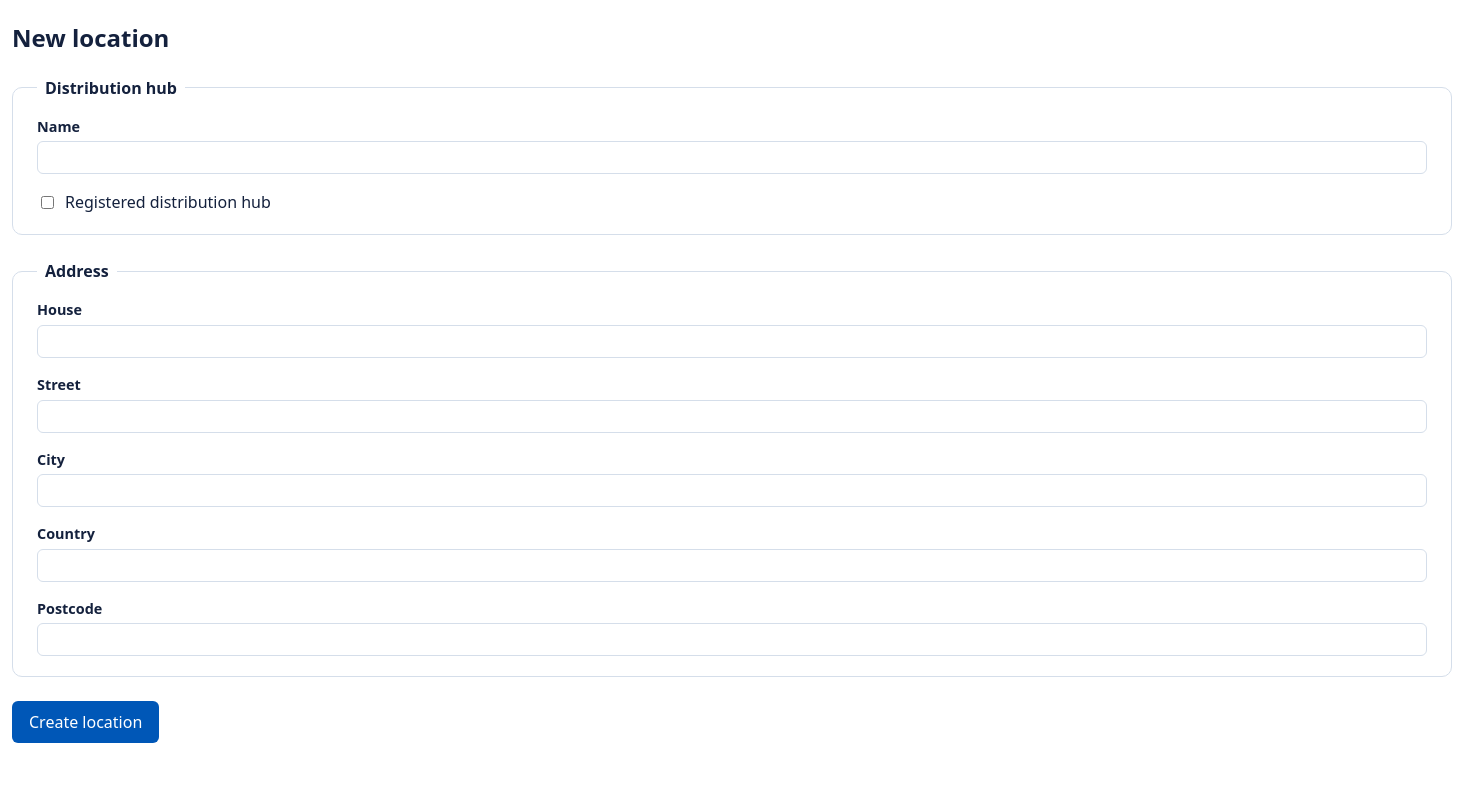
an Administrator registers a location as a hub
Type "Przemysl Hub" into the field labelled "Name".
click(732, 158); type("Przemysl Hub")  # box [37,141,1427,174]
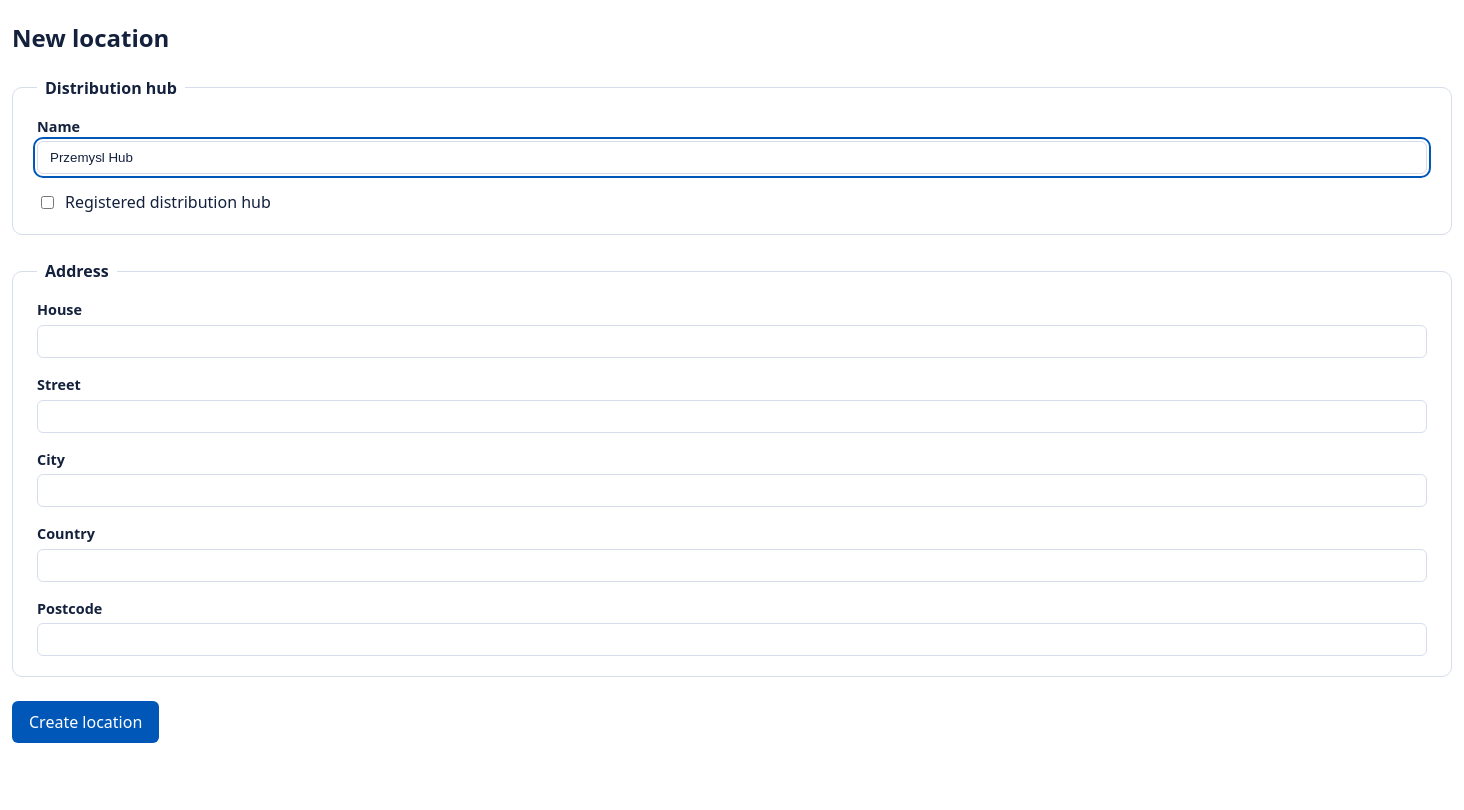
Click the checkbox labelled "Registered distribution hub".
click(48, 202)  # box [41,196,54,209]
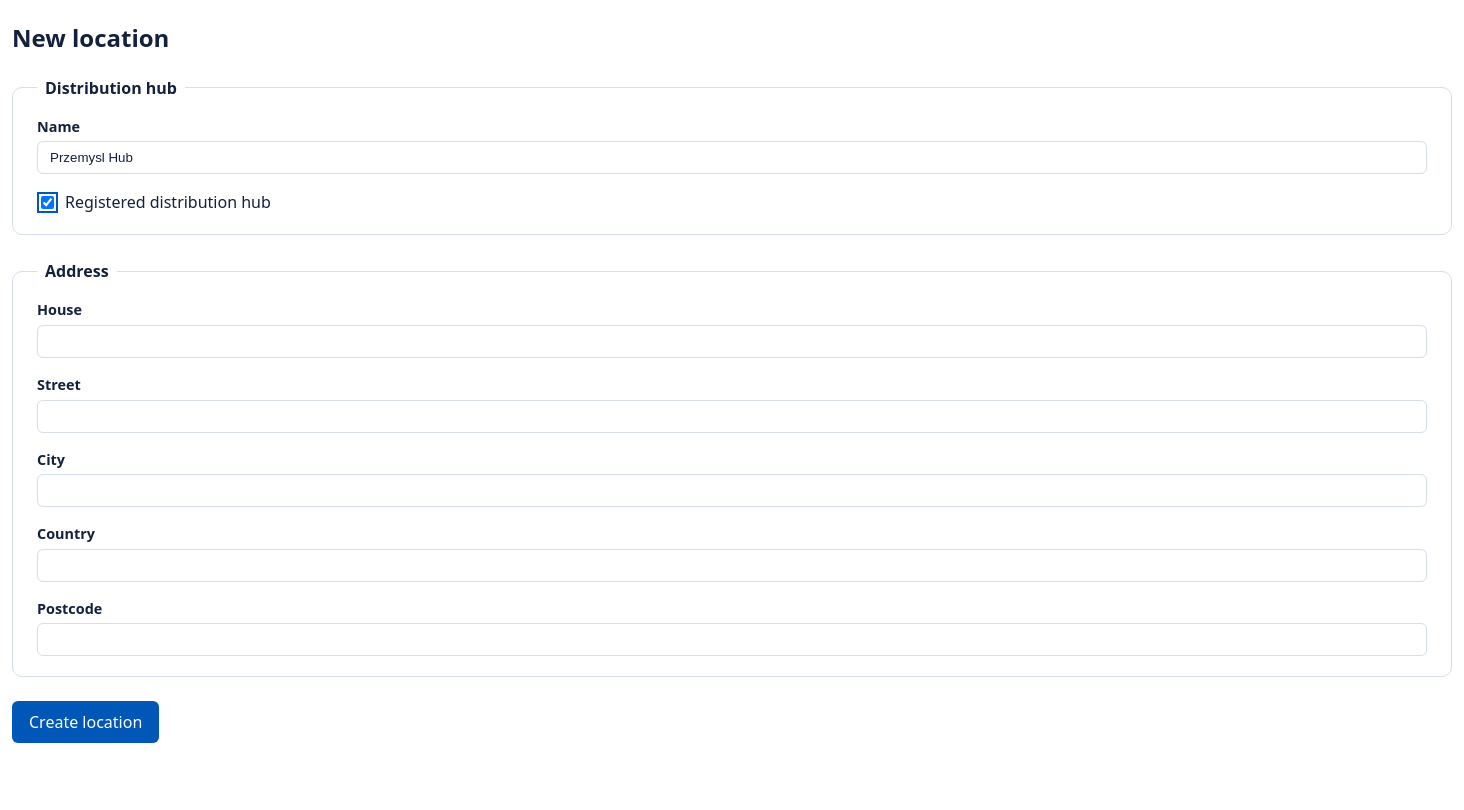
Click the button "Create location".
click(86, 722)  # box [12,702,159,744]
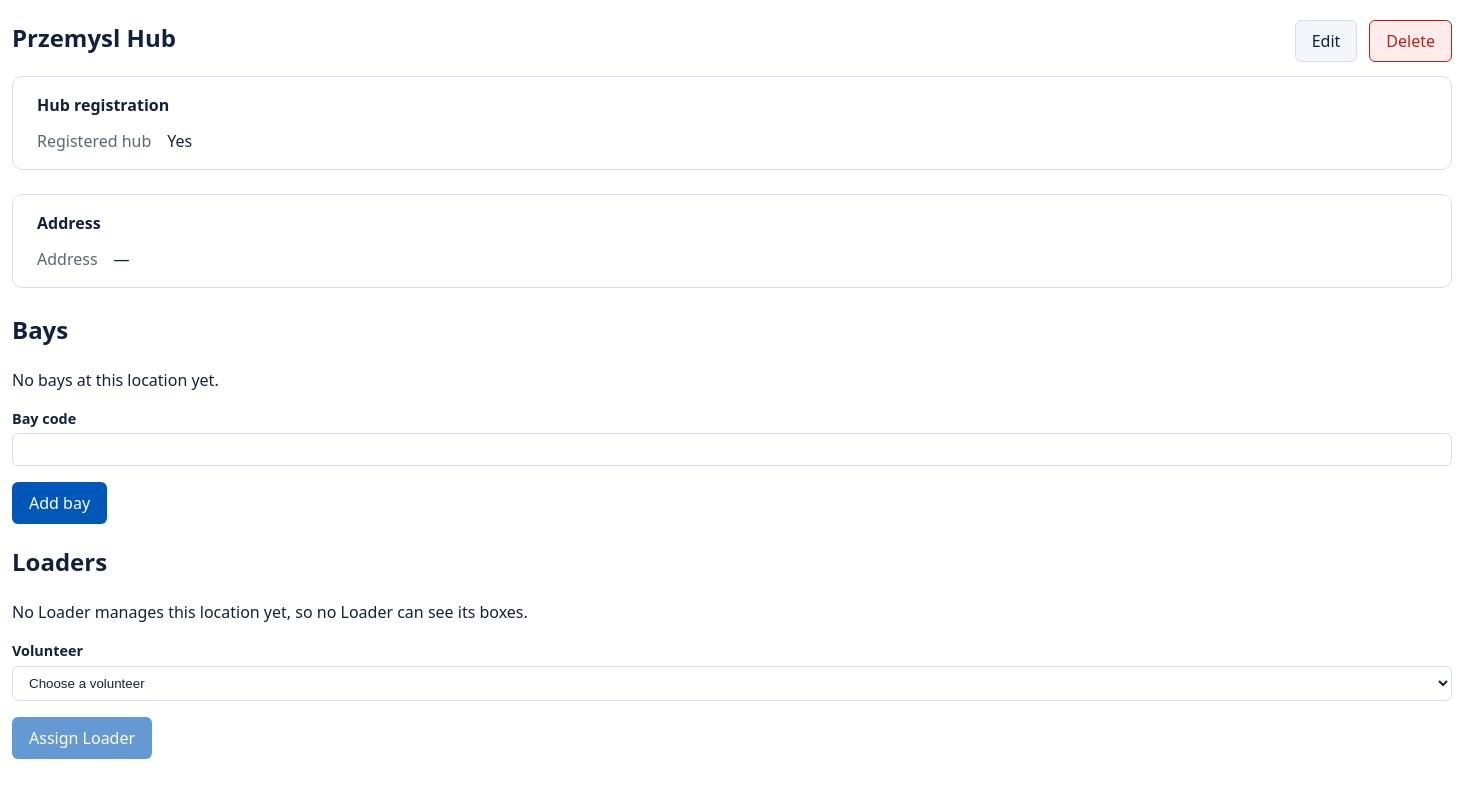
Expected: the heading "Przemysl Hub" is shown, [12,20,176,56]
